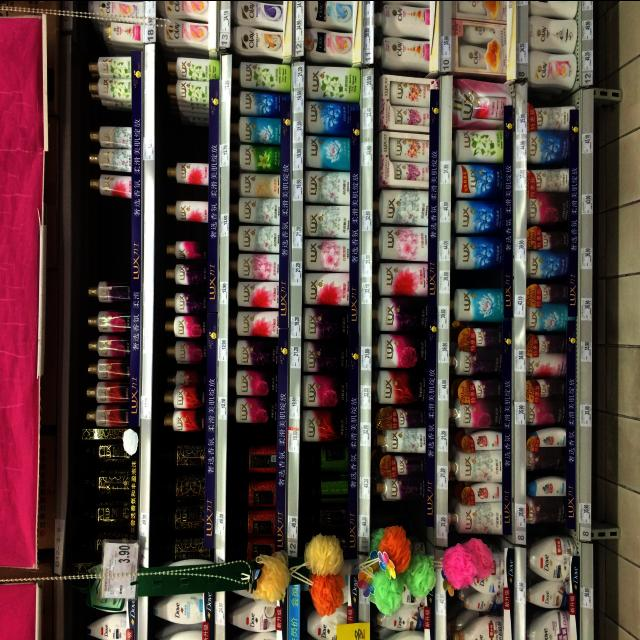empty_space: (89, 202, 131, 274), (383, 499, 421, 525), (458, 269, 501, 291), (170, 132, 208, 156), (240, 426, 277, 445), (174, 223, 206, 239), (101, 109, 131, 124), (174, 183, 206, 197)
